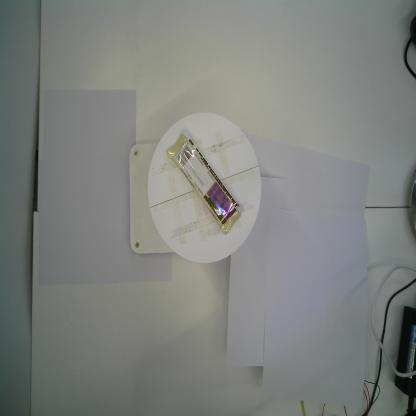Chocolate: (166, 128, 245, 235)
